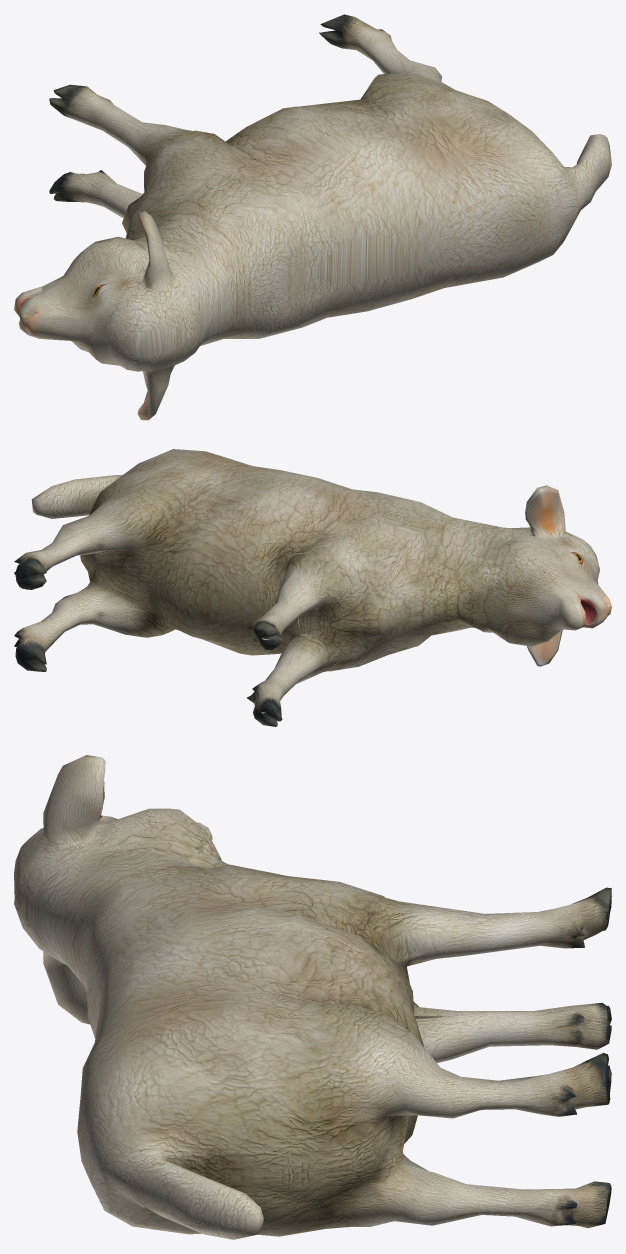
Rendered from sheep.obj.
3 renders of one model, top to bottom at view 1: azimuth 30°, elevation 25°; view 2: azimuth 150°, elevation 25°; view 3: azimuth 270°, elevation 25°, orthographic. The views are drawn at different scales.
Parts seen in each view (by area): view 1: Object_4_Object_0.001; view 2: Object_4_Object_0.001; view 3: Object_4_Object_0.001.
Boxes of the visible parts, x1=… form: Object_4_Object_0.001: x1=14, y1=14, x2=611, y2=420; Object_4_Object_0.001: x1=14, y1=449, x2=611, y2=726; Object_4_Object_0.001: x1=14, y1=755, x2=611, y2=1239.
Bounding box in the file's own units: 1.03 × 0.3249 × 0.6575.
